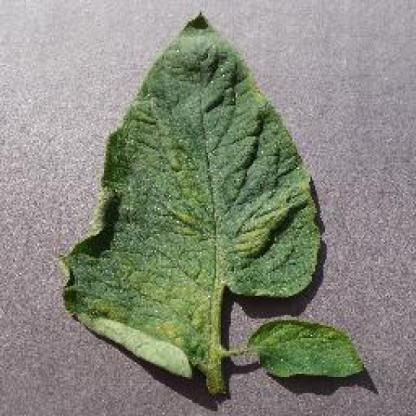Tomato_Spider_Mites: (63, 12, 365, 393)
